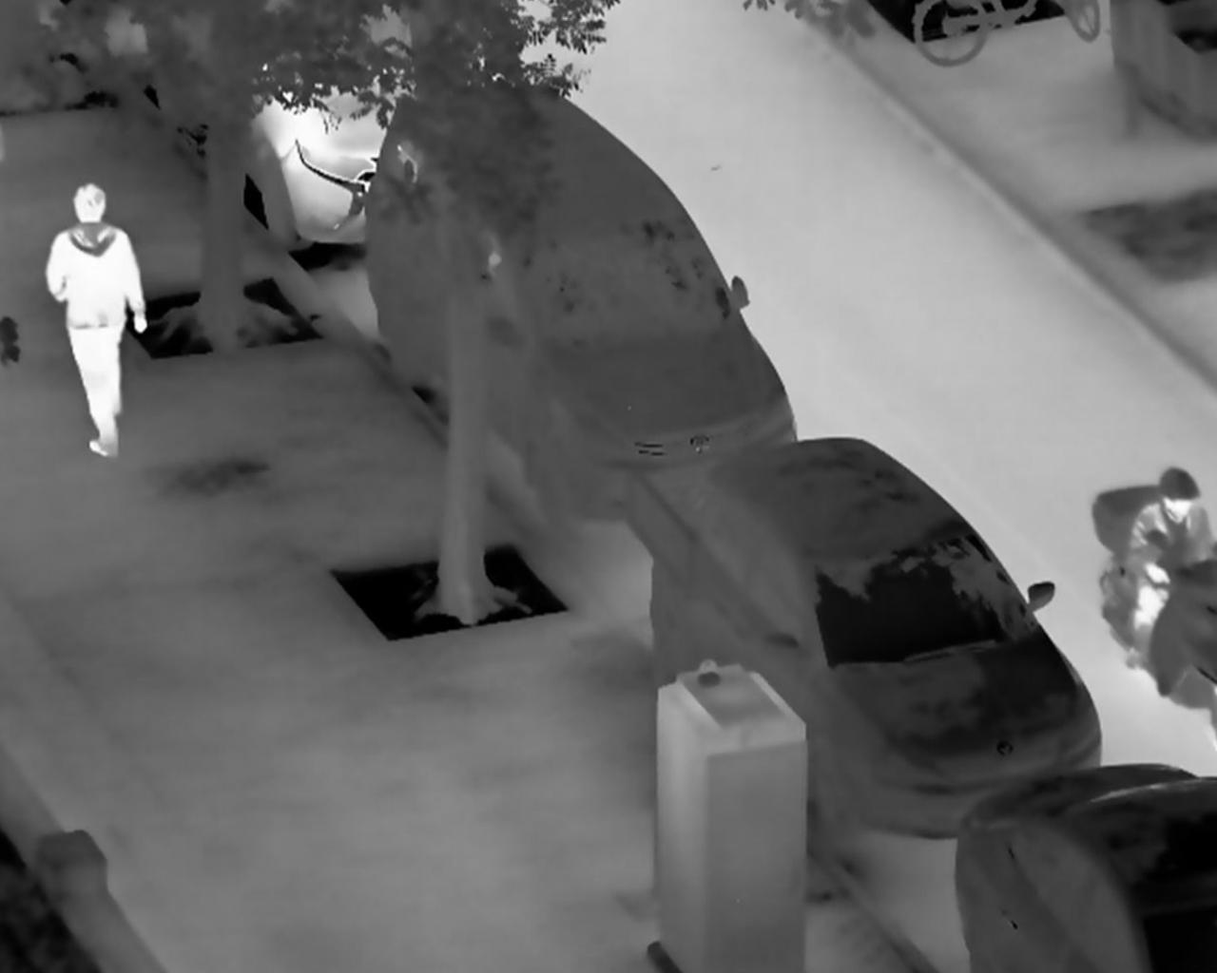person: (45, 181, 149, 460), (1127, 465, 1214, 674)
